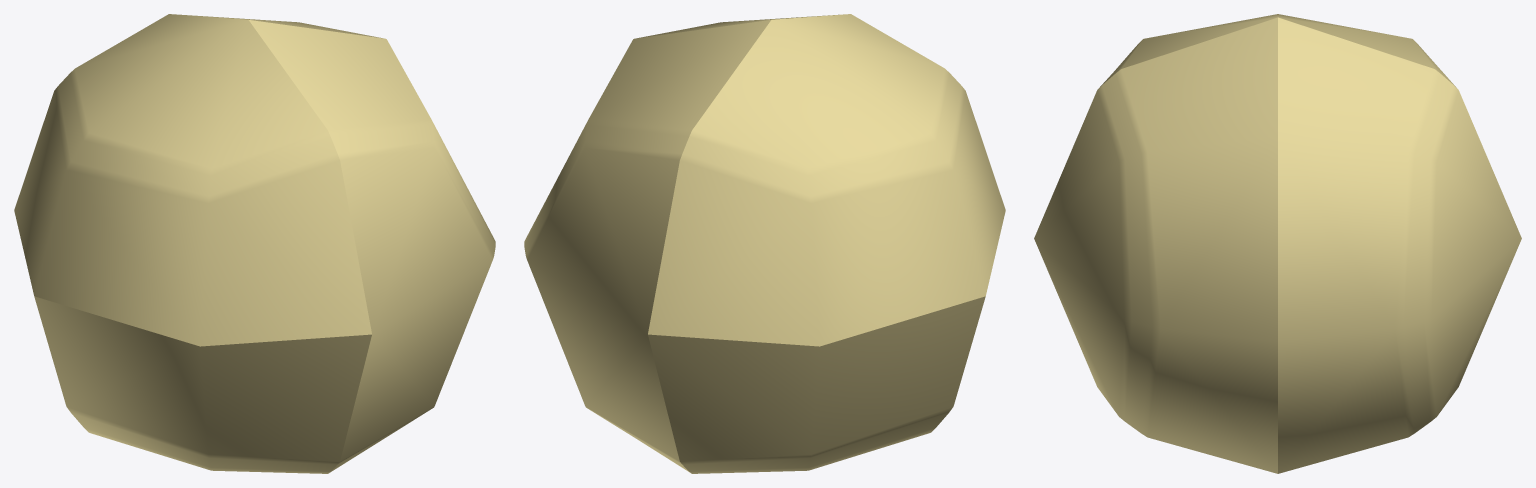
Rendered from Ball Low.fbx.
The picture shows the model from 3 angles, left to right: view 1: azimuth 30°, elevation 25°; view 2: azimuth 150°, elevation 25°; view 3: azimuth 270°, elevation 25°; orthographic projection.
Parts seen in each view (by area): view 1: ball high poly 001; view 2: ball high poly 001; view 3: ball high poly 001.
Part boxes in pixels (x1,y1,x2,y2): ball high poly 001: [14, 14, 495, 473]; ball high poly 001: [524, 14, 1005, 473]; ball high poly 001: [1034, 14, 1521, 473].
Size of the model in its own units: 18.01 by 18.01 by 18.01.
